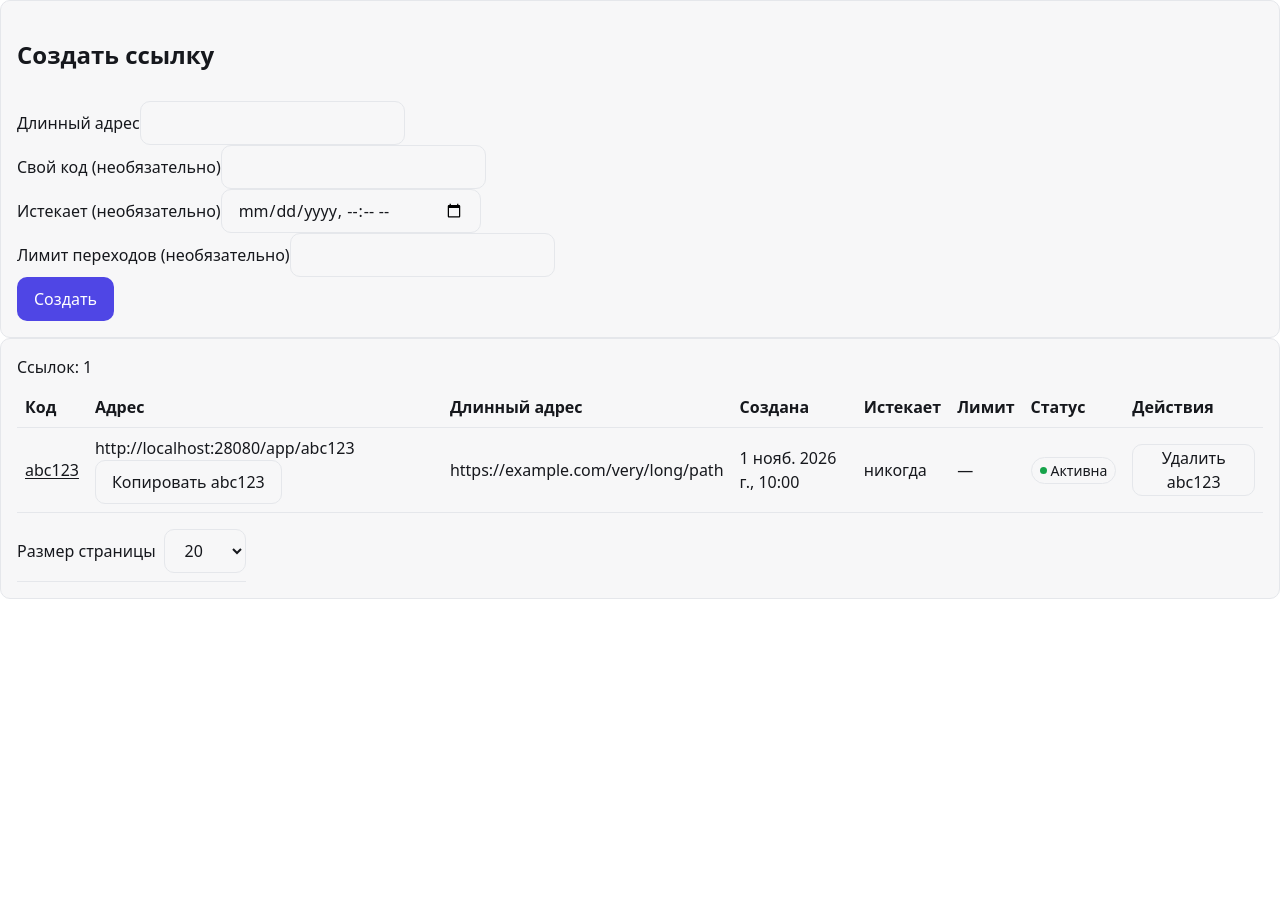
Test: LinksPage › создание шлёт только заполненные поля и перезапрашивает список
Type "https://example.com" into the field labelled "Длинный адрес".
click(272, 123); type("https://example.com")  # box [140,101,405,145]
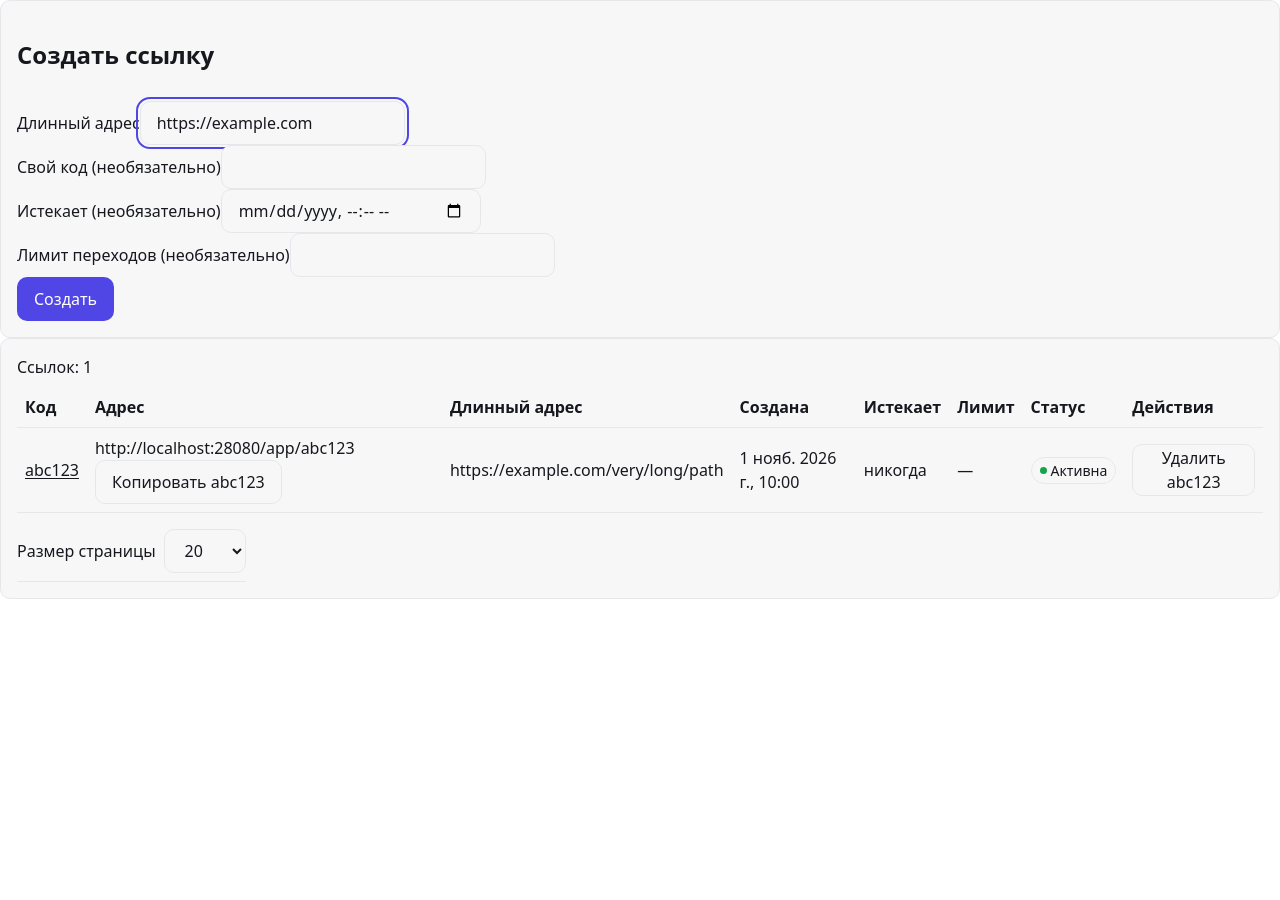
Click the button "Создать".
click(66, 299)  # box [17,277,114,321]
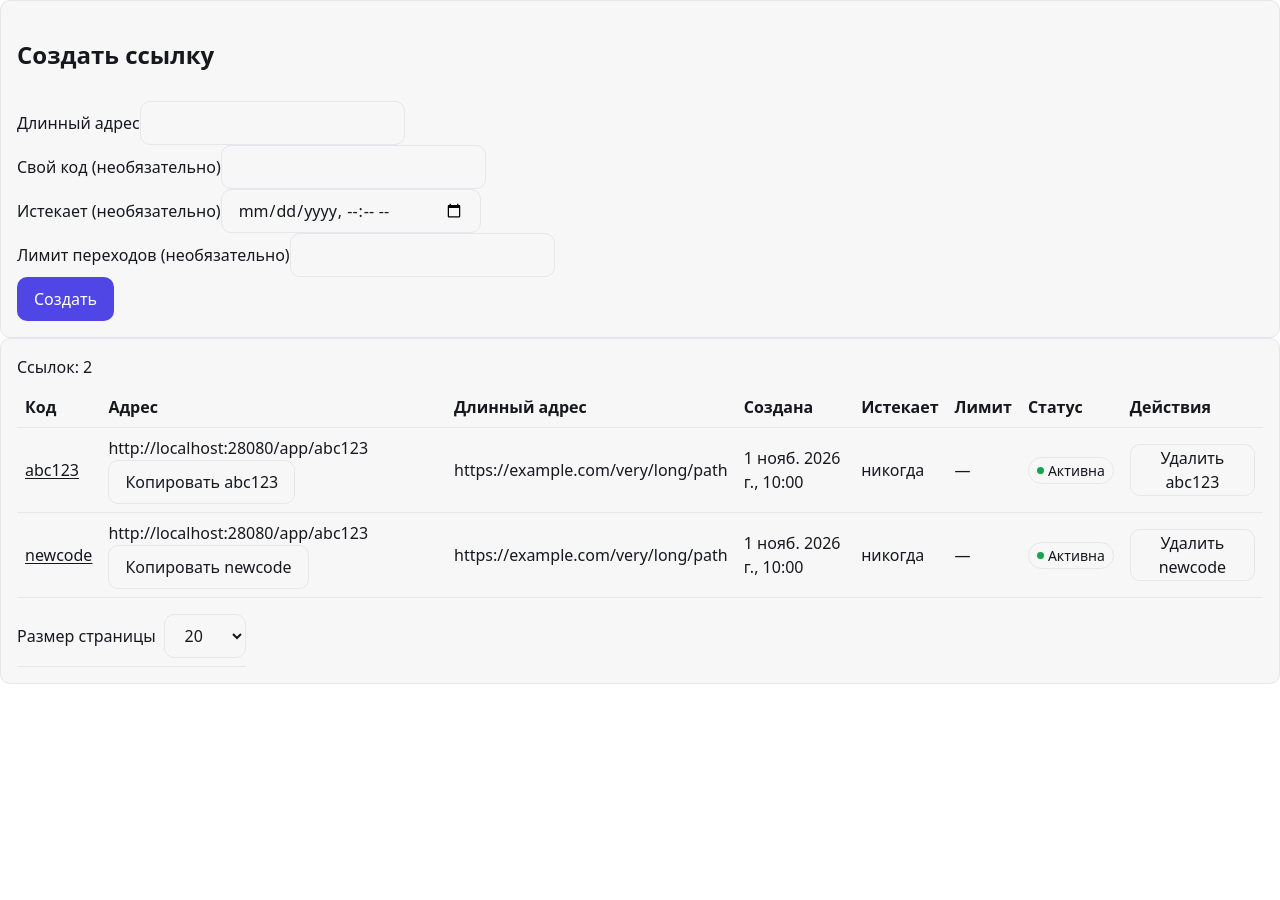
Expected: the text "Ссылок: 2" is shown, [17,355,92,379]
